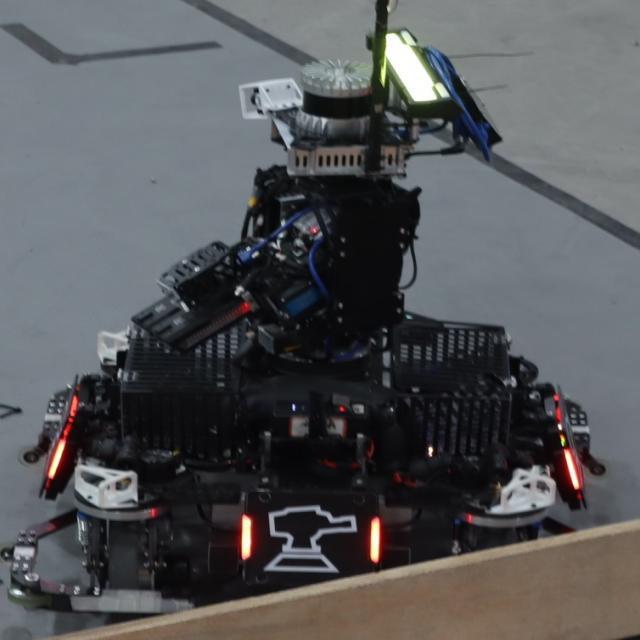Rs: (238, 504, 384, 581)
